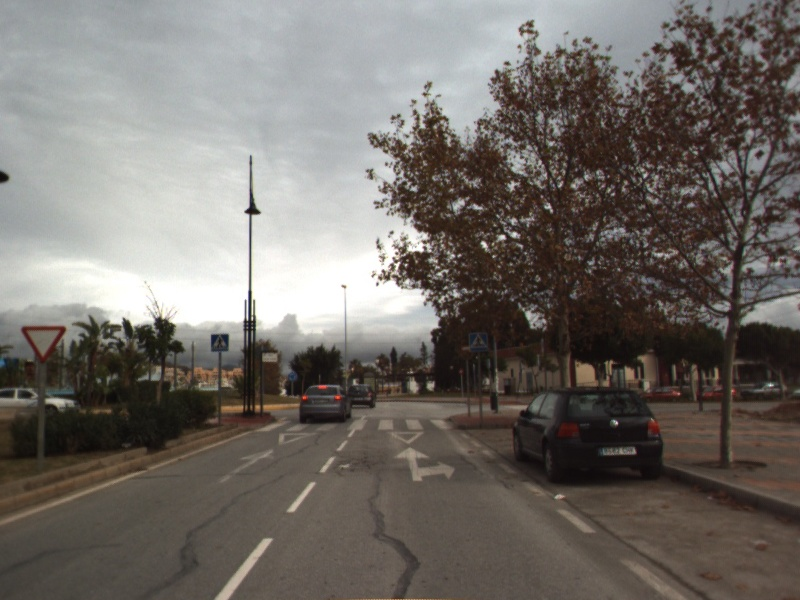STRAIGHT: (214, 445, 277, 485)
STRAIGHT_RIGHT: (391, 445, 457, 483)
